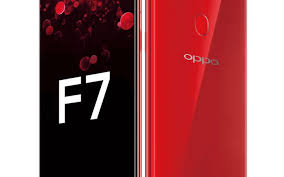oppo: (32, 1, 143, 177), (142, 1, 253, 177)
